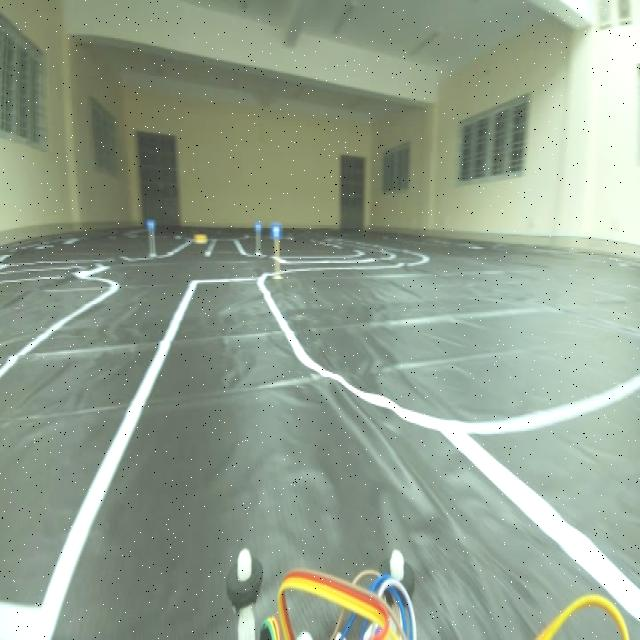onewayroad: (270, 220, 283, 242), (253, 220, 261, 231), (147, 220, 154, 231)
roadblock: (192, 233, 210, 244)
